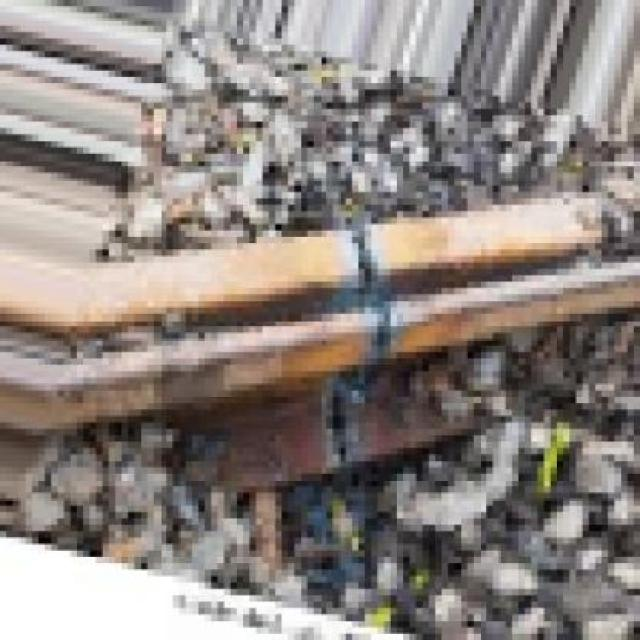defective: (191, 134, 575, 640)
